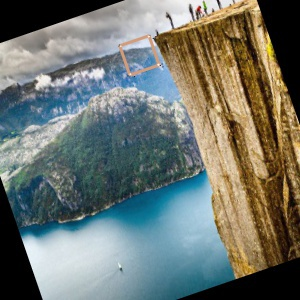square: (116, 33, 164, 78)
